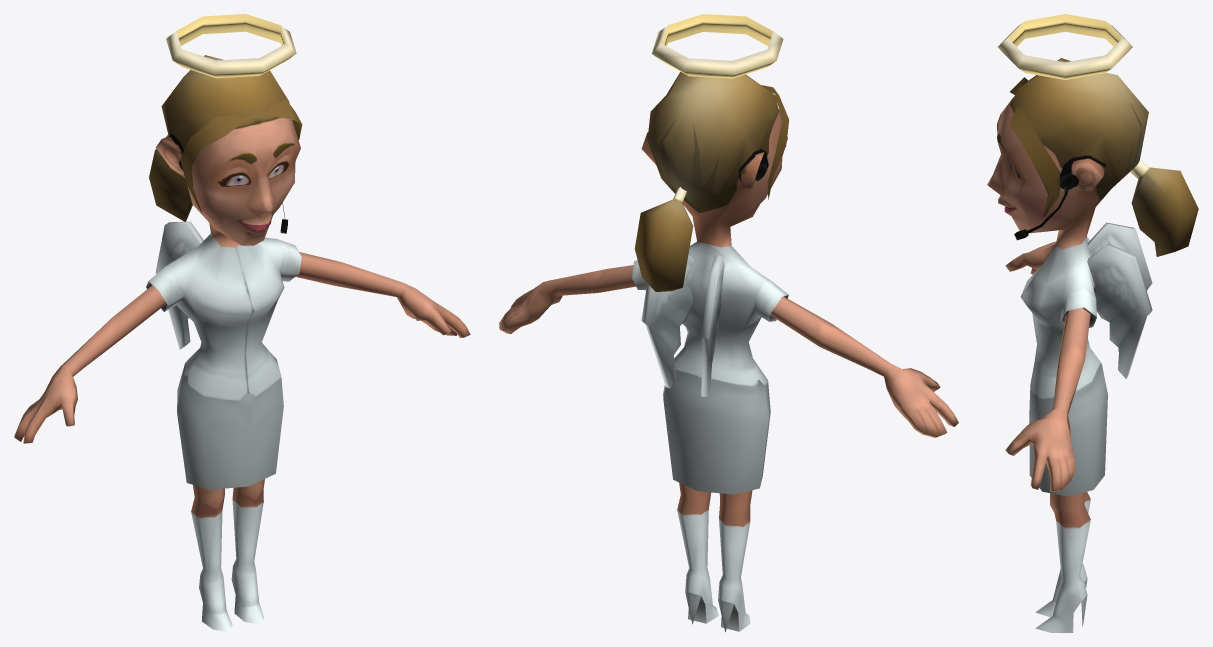
Rendered from MFD_Angel.fbx.
3 renders of one model, left to right at view 1: azimuth 30°, elevation 25°; view 2: azimuth 150°, elevation 25°; view 3: azimuth 270°, elevation 25°, orthographic.
Parts seen in each view (by area): view 1: Plane_005; view 2: Plane_005; view 3: Plane_005.
Part boxes in pixels (bbox=[...]): Plane_005: bbox=[14, 14, 470, 632]; Plane_005: bbox=[499, 14, 958, 632]; Plane_005: bbox=[987, 14, 1198, 632].
Size of the model in its own units: 5.49 by 6.83 by 2.25.
